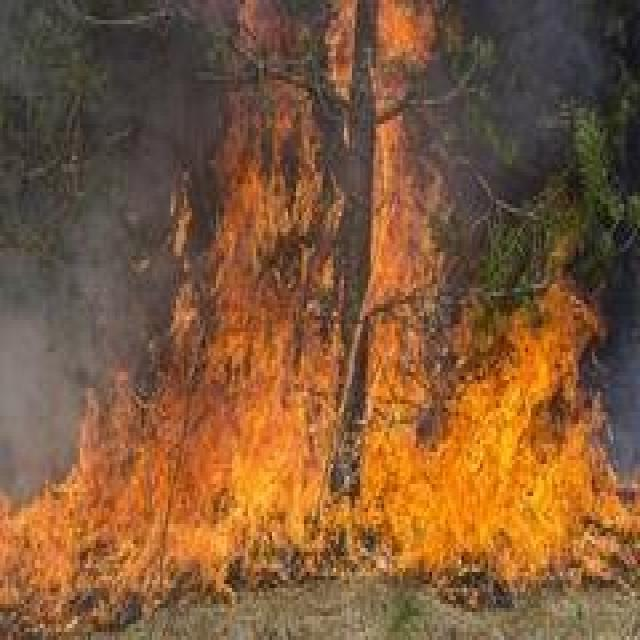fire: (0, 320, 632, 580), (210, 1, 436, 313)
smoke: (80, 97, 166, 354), (0, 246, 77, 486), (456, 6, 582, 146)
